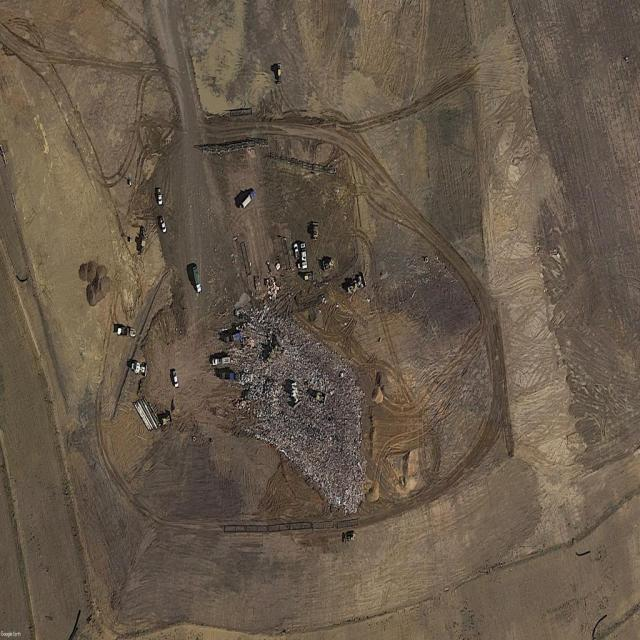dump_site: (223, 300, 390, 522), (266, 277, 279, 305)
